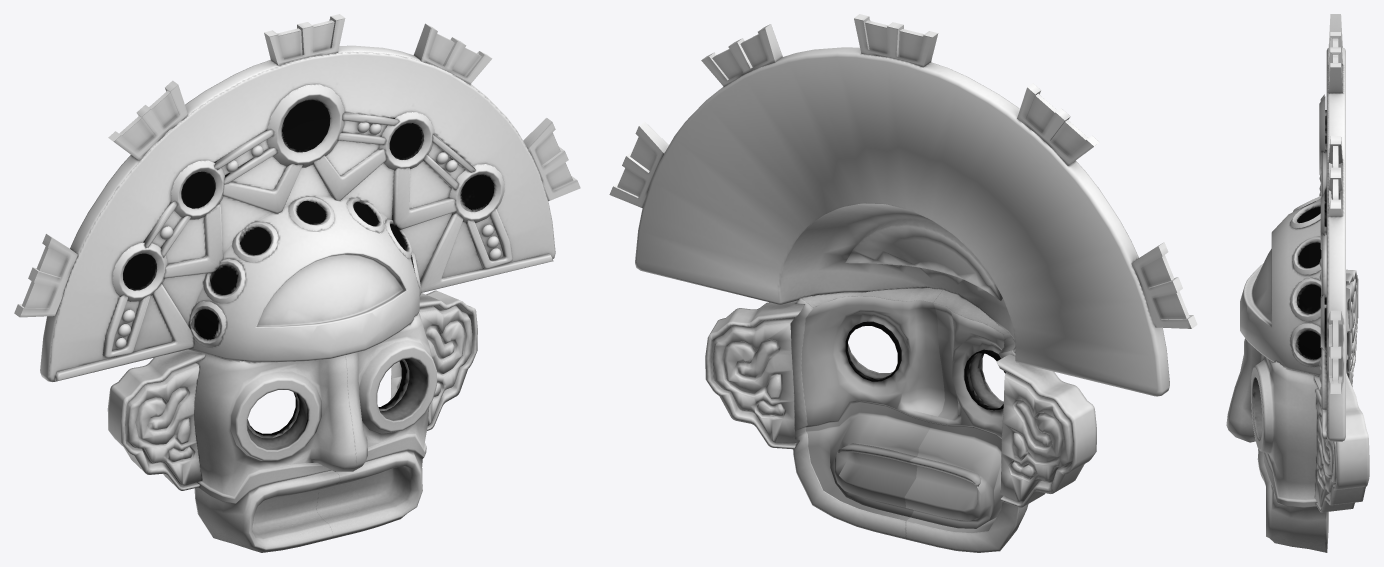
The model's file is peruHead_gold.gltf.
3 renders of one model, left to right at view 1: azimuth 30°, elevation 25°; view 2: azimuth 150°, elevation 25°; view 3: azimuth 270°, elevation 25°, orthographic. The views are drawn at different scales.
Parts seen in each view (by area): view 1: Plane.002; view 2: Plane.002; view 3: Plane.002.
Boxes of the visible parts, bbox=[...] form: Plane.002: bbox=[14, 14, 580, 552]; Plane.002: bbox=[609, 14, 1197, 552]; Plane.002: bbox=[1226, 14, 1369, 552].
Size of the model in its own units: 19.43 by 16.45 by 4.5.
Materials: 1 (1 with a texture image).
